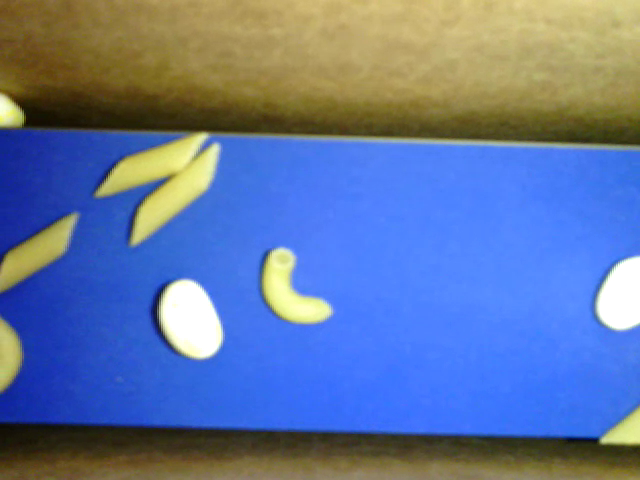elbow: (261, 247, 334, 325)
penne: (130, 140, 221, 247), (94, 132, 207, 196), (1, 212, 78, 292), (599, 407, 639, 445)
